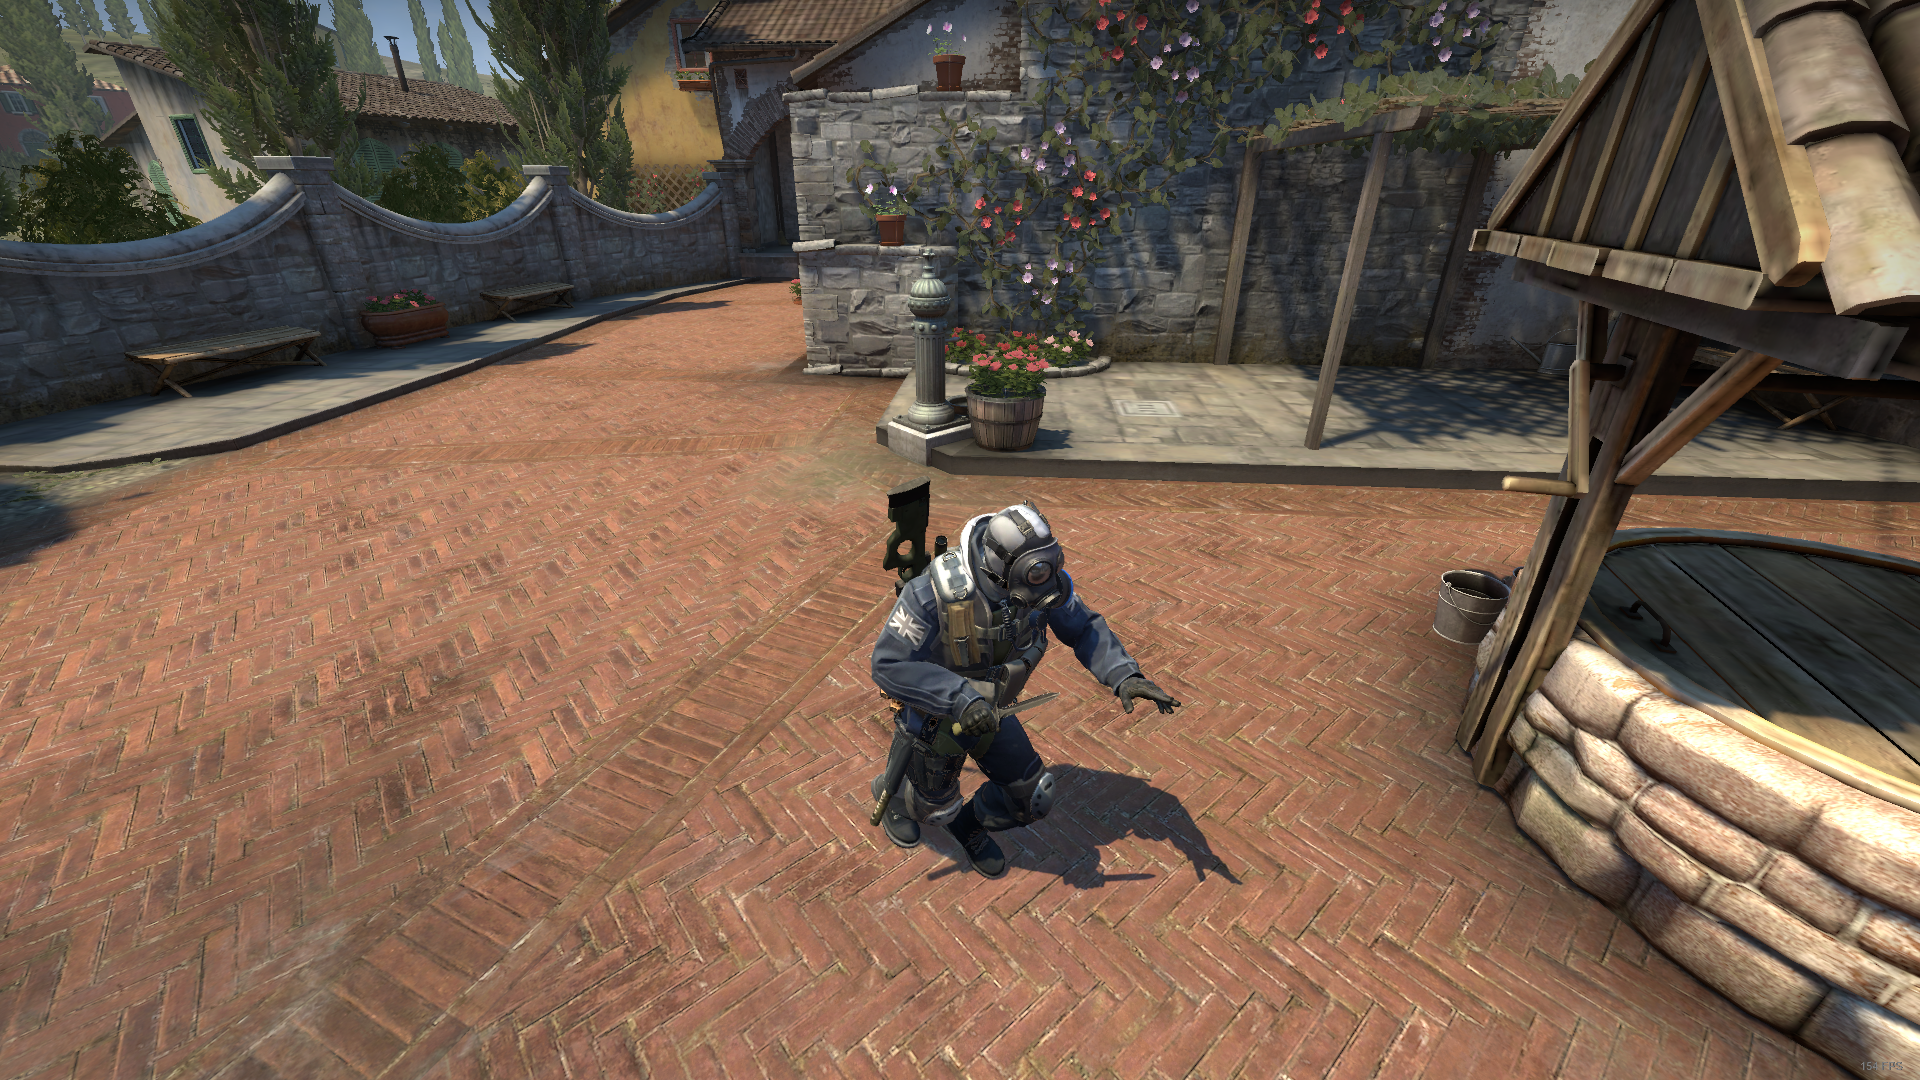ct: (870, 500, 1183, 890)
